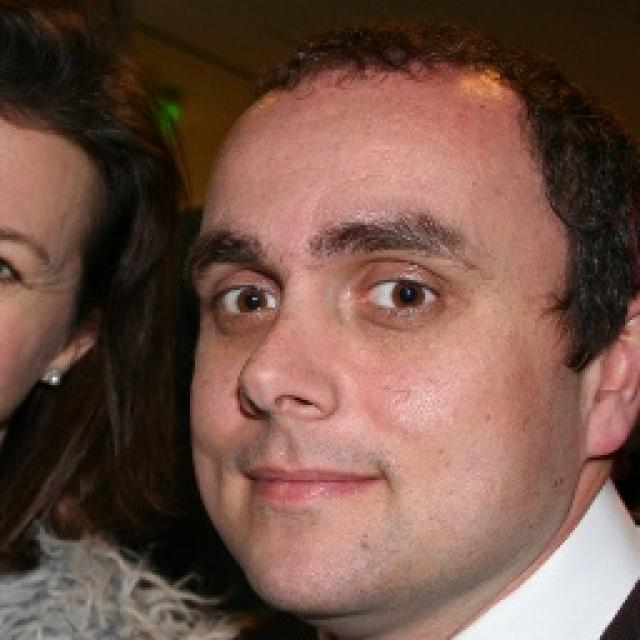earlobe: (583, 287, 639, 460)
